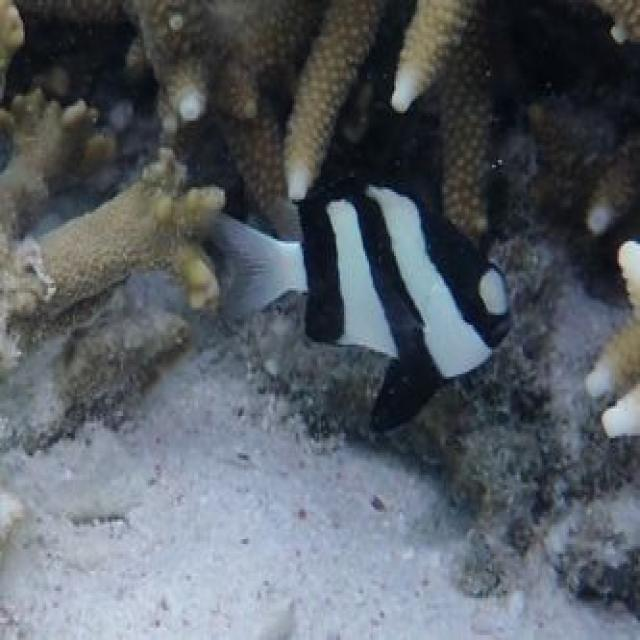ThreeStripedDamselfish: (202, 177, 515, 431)
